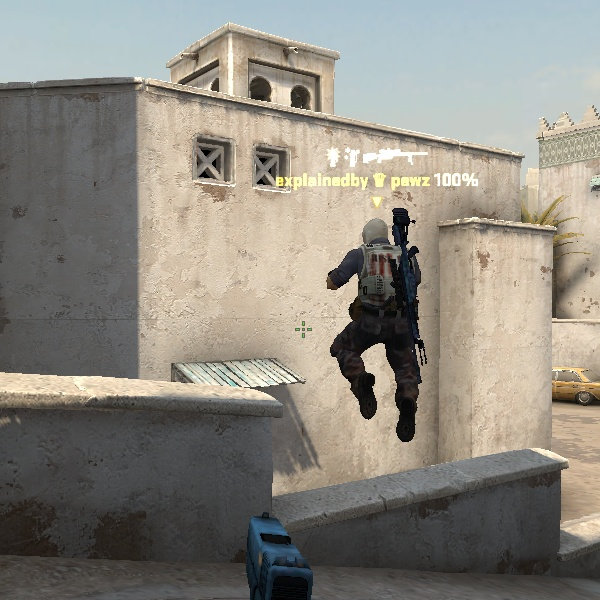t_body: (313, 208, 443, 440)
t_head: (351, 206, 402, 256)
